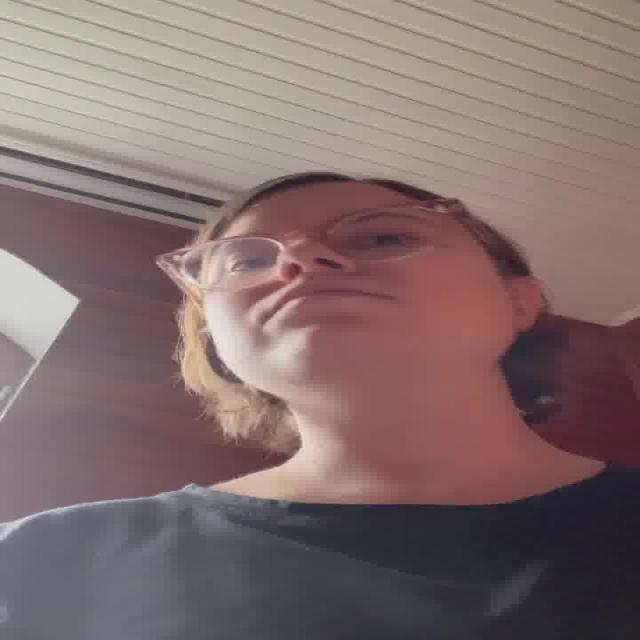earlobe: (511, 310, 538, 334)
eye: (351, 232, 427, 250), (216, 254, 271, 270)
nose: (282, 261, 364, 282)
wholeear: (498, 278, 545, 334)
